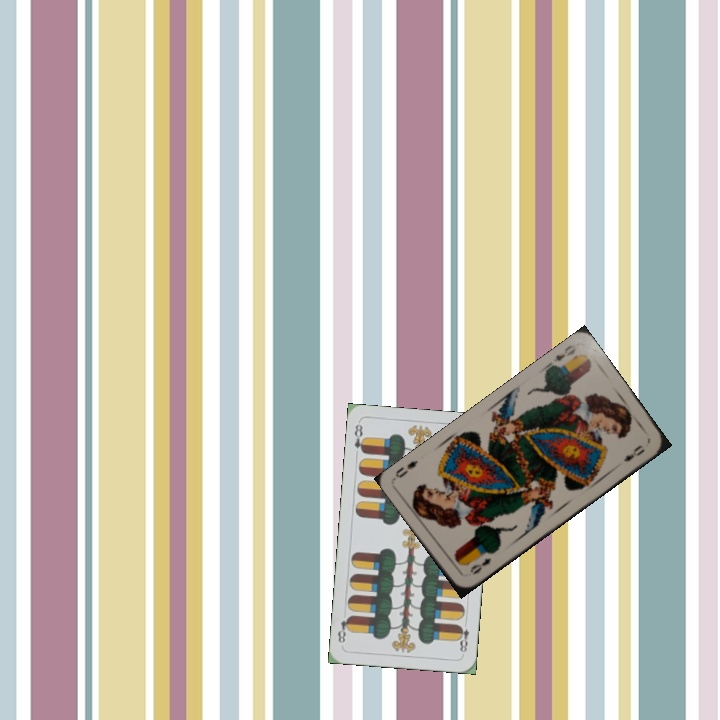E8: (454, 617, 472, 657), (350, 420, 368, 456)
EO: (544, 340, 581, 371), (466, 554, 494, 578)
